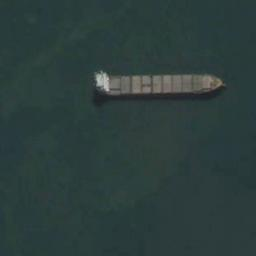boat: (90, 69, 228, 97)
